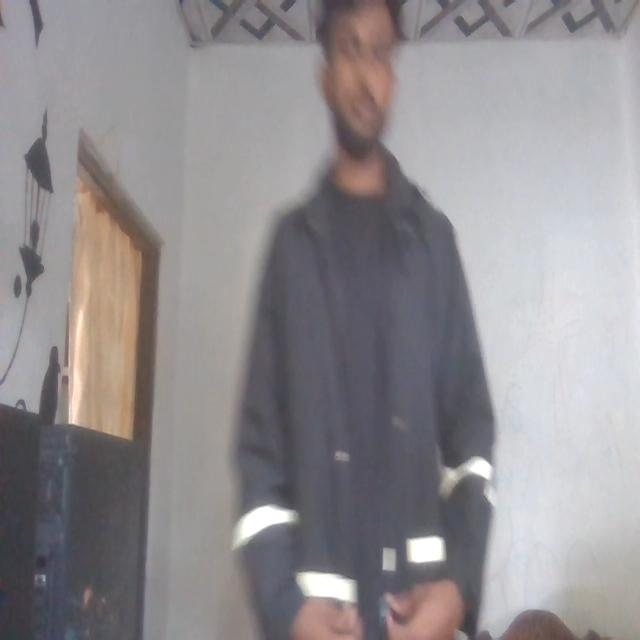Jacket_Wearer: (238, 123, 491, 631)
Person: (236, 0, 486, 640)
